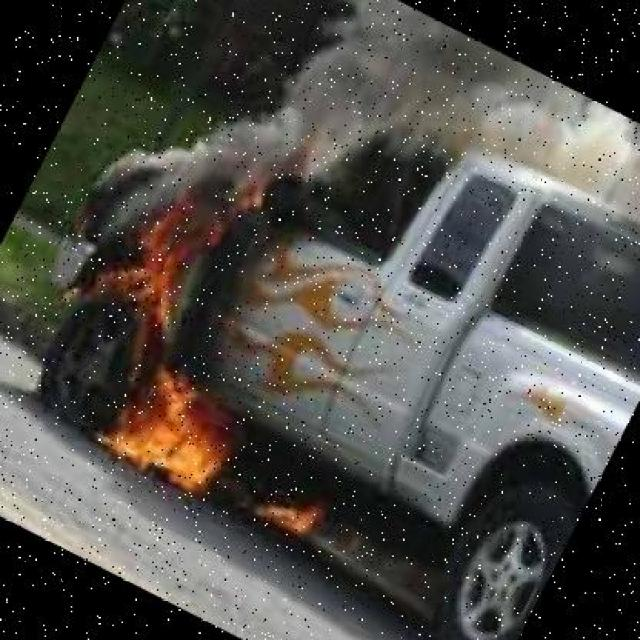fire: (55, 120, 274, 354), (74, 350, 260, 538), (231, 451, 354, 577)
